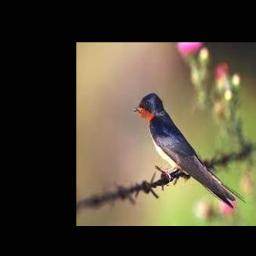Swallow: (133, 94, 246, 209)
